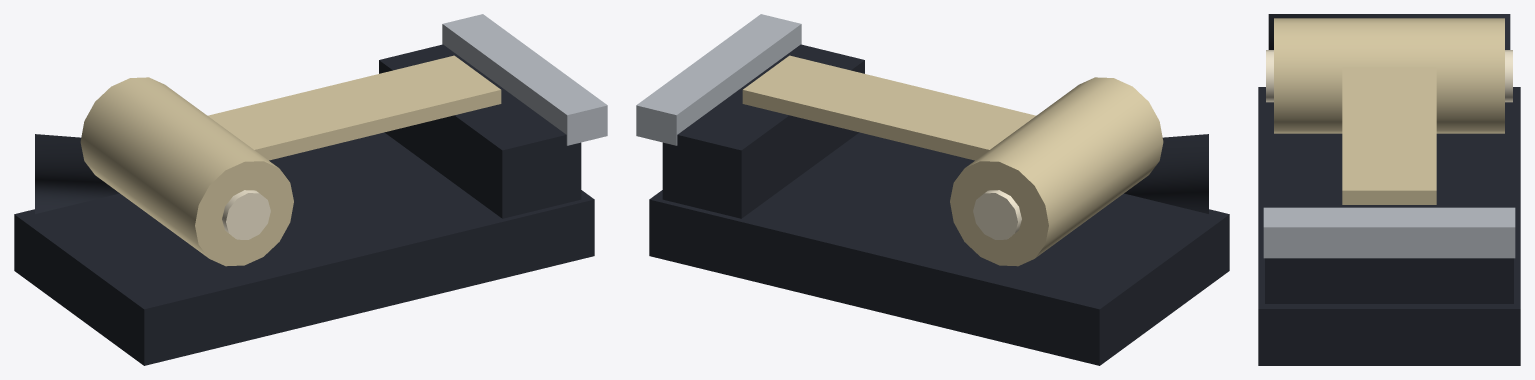
Rendered from tape_dispenser.glb.
3 views of the same model, side by side, from view 1: azimuth 30°, elevation 25°; view 2: azimuth 150°, elevation 25°; view 3: azimuth 270°, elevation 25° (orthographic).
Visible parts, largest first — view 1: base, tape_roll, front_lip, tape_strip, blade, sloped_body, roll_core; view 2: base, tape_roll, front_lip, tape_strip, blade, sloped_body, roll_core; view 3: base, tape_roll, front_lip, blade, tape_strip, sloped_body, roll_core.
Part boxes in pixels (<box>): base: <box>14,132,594,365</box>; tape_roll: <box>80,77,293,266</box>; front_lip: <box>379,44,581,218</box>; tape_strip: <box>208,55,501,160</box>; blade: <box>442,14,607,145</box>; sloped_body: <box>35,134,119,213</box>; roll_core: <box>222,190,270,239</box>; base: <box>649,132,1229,365</box>; tape_roll: <box>950,77,1163,266</box>; front_lip: <box>662,44,864,218</box>; tape_strip: <box>742,55,1035,160</box>; blade: <box>636,14,801,145</box>; sloped_body: <box>1124,134,1208,213</box>; roll_core: <box>973,190,1021,239</box>; base: <box>1258,87,1520,365</box>; tape_roll: <box>1274,18,1504,133</box>; front_lip: <box>1265,196,1513,303</box>; blade: <box>1263,207,1515,258</box>; tape_strip: <box>1342,67,1436,204</box>; sloped_body: <box>1268,14,1510,49</box>; roll_core: <box>1266,50,1512,102</box>.
Bounding box in the file's own units: 0.207 × 0.073 × 0.1.
